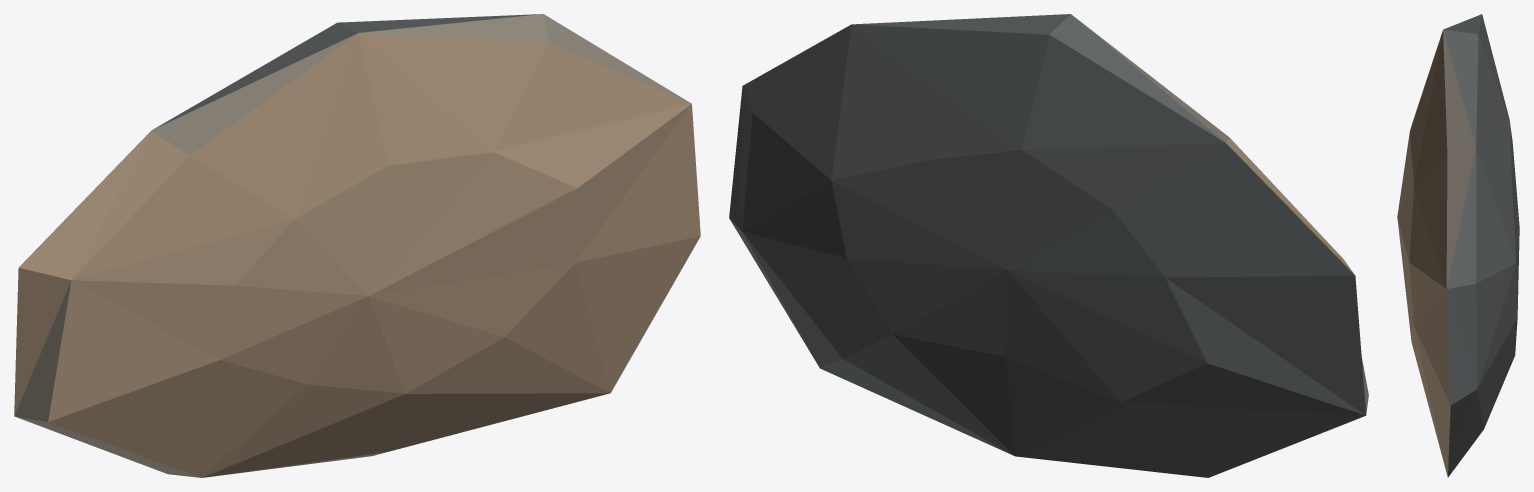
The model's file is mountain-rock-02-flat.glb.
3 views of the same model, side by side, from view 1: azimuth 30°, elevation 25°; view 2: azimuth 150°, elevation 25°; view 3: azimuth 270°, elevation 25° (orthographic). The views are drawn at different scales.
Visible parts, largest first — view 1: Mountain Rock 02 Flat; view 2: Mountain Rock 02 Flat; view 3: Mountain Rock 02 Flat.
Part boxes in pixels (left/top/right/bottom): Mountain Rock 02 Flat: left=14, top=14, right=700, bottom=477; Mountain Rock 02 Flat: left=729, top=14, right=1368, bottom=477; Mountain Rock 02 Flat: left=1397, top=14, right=1519, bottom=477.
Size of the model in its own units: 2.48 by 1.58 by 0.48.
